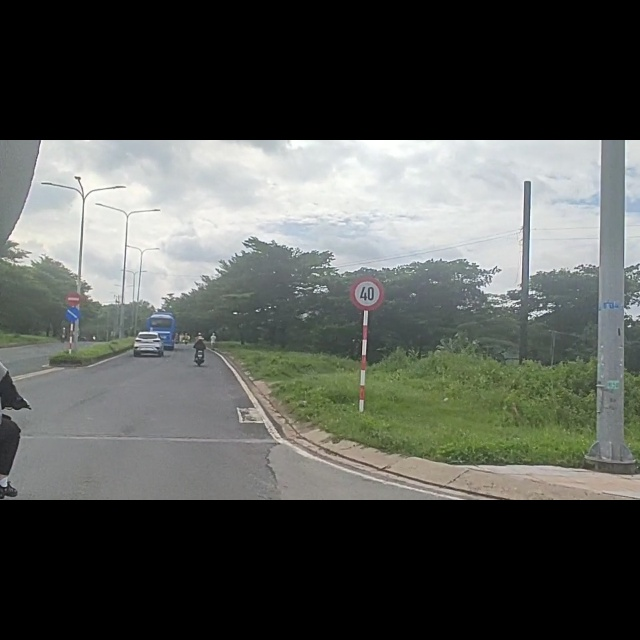bien_cam: (350, 241, 388, 303), (62, 265, 83, 296), (62, 294, 81, 325)
